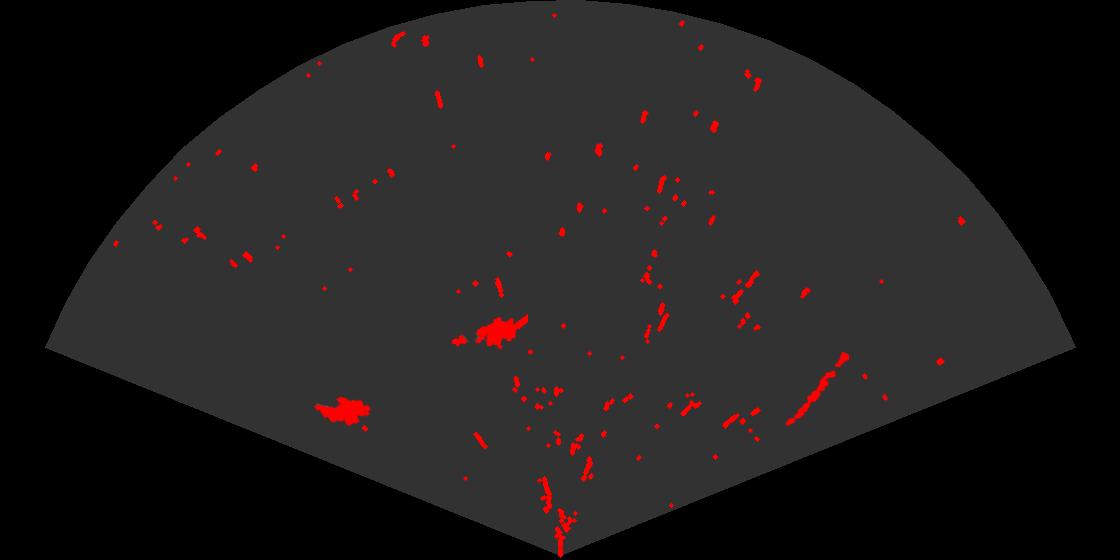AUV: (312, 395, 373, 428)
chain: (784, 350, 851, 428)
frogman: (450, 312, 528, 350)
